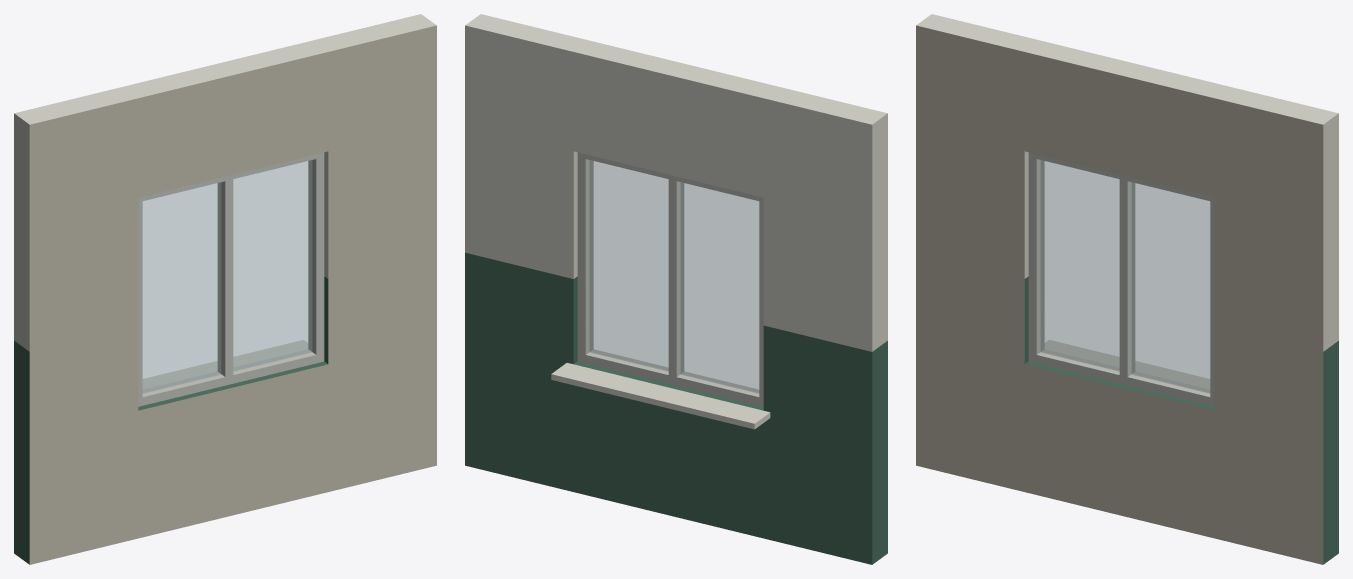
File: hosp_wall_window_ext.glb
The picture shows the model from 3 angles, left to right: view 1: azimuth 30°, elevation 25°; view 2: azimuth 150°, elevation 25°; view 3: azimuth 330°, elevation 25°; orthographic projection.
Visible parts, largest first — view 1: hosp_wall_window_ext-col; view 2: hosp_wall_window_ext-col; view 3: hosp_wall_window_ext-col.
Part boxes in pixels (x1,y1,x2,y2): hosp_wall_window_ext-col: [14, 14, 436, 564]; hosp_wall_window_ext-col: [465, 14, 887, 564]; hosp_wall_window_ext-col: [916, 14, 1338, 564].
Bounding box in the file's own units: 3 × 3.1 × 0.4.
